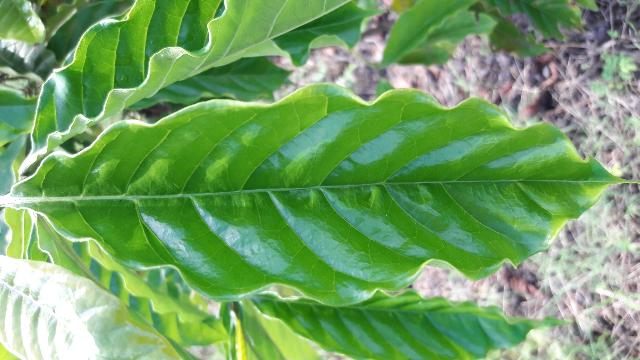healthy: (8, 84, 628, 307)
